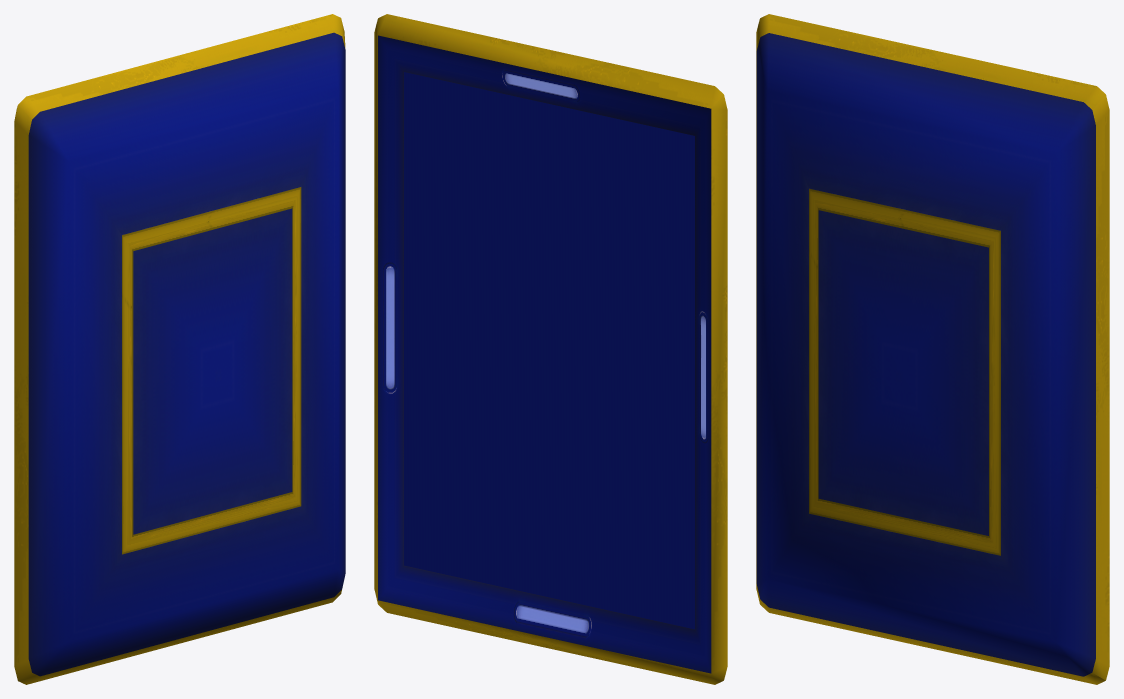
Rendered from s0_VerticalBoard_Art_01.gltf.
The picture shows the model from 3 angles, left to right: view 1: azimuth 30°, elevation 25°; view 2: azimuth 150°, elevation 25°; view 3: azimuth 330°, elevation 25°; orthographic projection.
Visible parts, largest first — view 1: node_VerticalBoard_Art; view 2: node_VerticalBoard_Art; view 3: node_VerticalBoard_Art.
Part boxes in pixels (box(x1,y1,x2,y2)): node_VerticalBoard_Art: box(14, 14, 345, 684); node_VerticalBoard_Art: box(374, 14, 727, 684); node_VerticalBoard_Art: box(756, 14, 1109, 684).
Size of the model in its own units: 3.54 by 5.88 by 0.8516.
